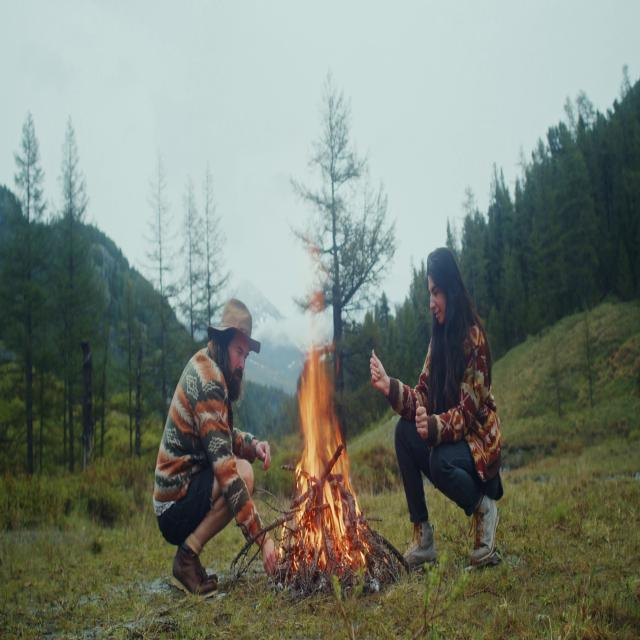Fire: (274, 334, 372, 572)
